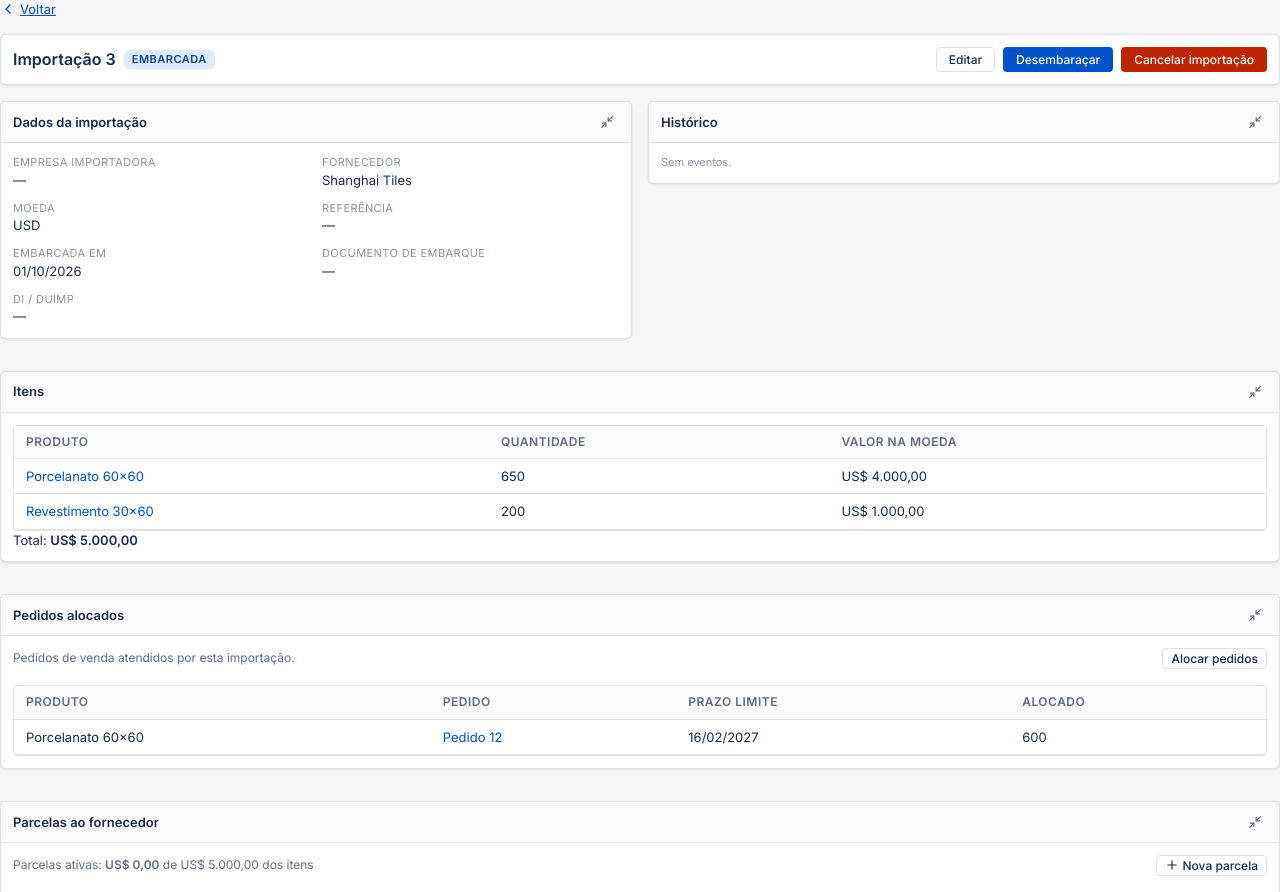
Test: Alocação de pedidos › confere a soma contra a quantidade do item e trata o conflito de versão
The width and height of the screenshot is (1280, 892).
Expected: the heading "Importação 3" is shown, [13,48,116,71]
Expected: the link "Pedido 12" is shown, [443,729,502,745]
Click the button "Alocar pedidos": (1215, 658) [1162,648,1267,669]
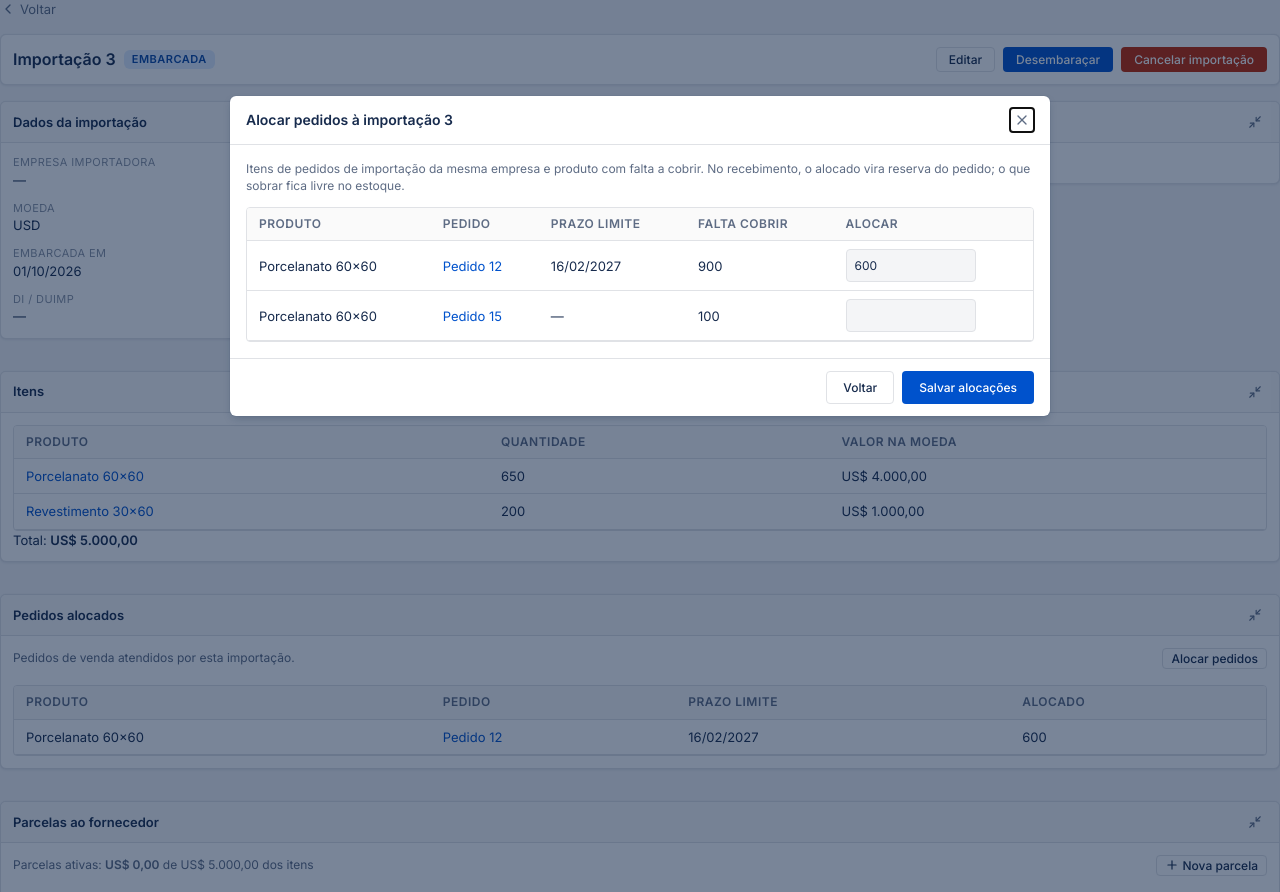
In the number field named "Alocar Porcelanato 60x60 ao pedido 15": (911, 316) [846,299,976,332], type "100"
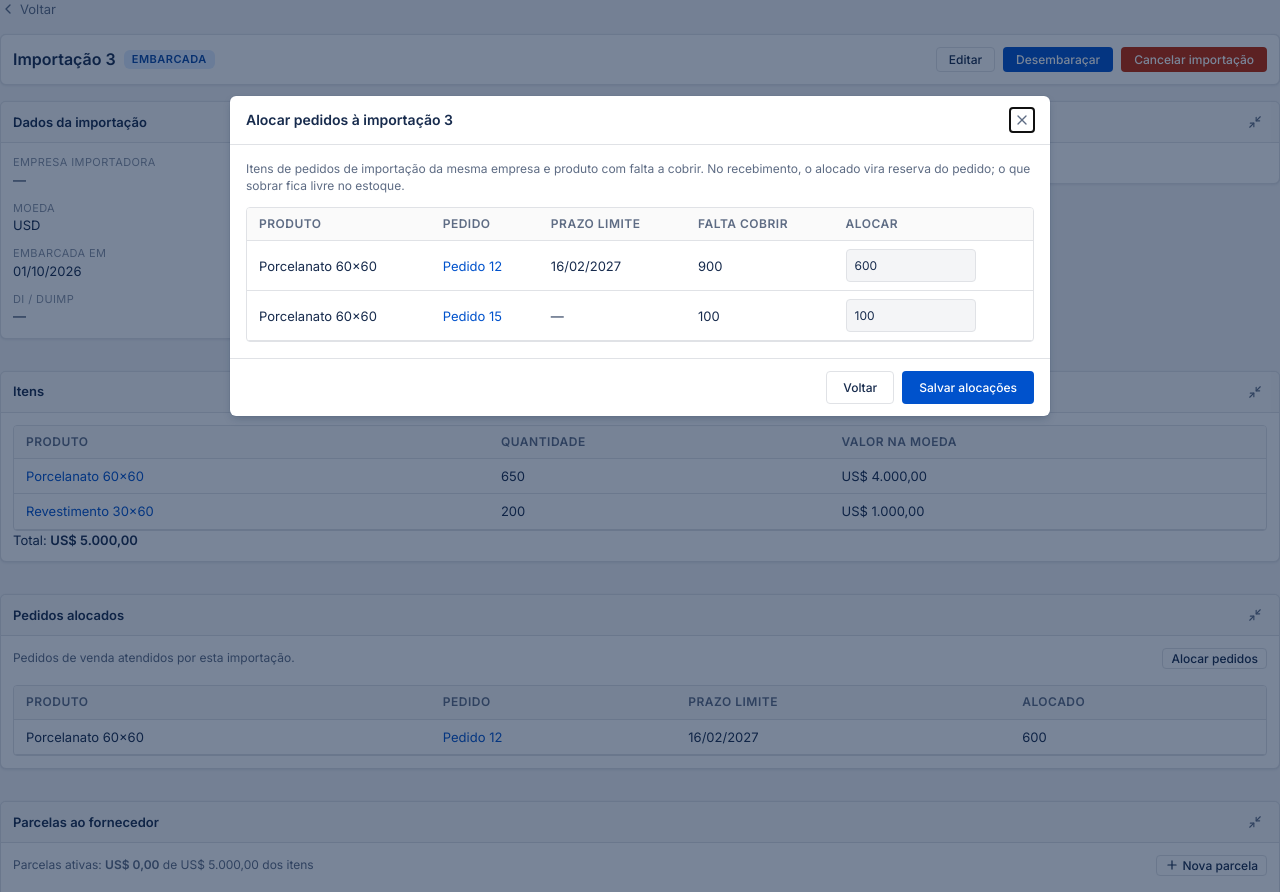
Click the button "Salvar alocações": (968, 388) [902,371,1034,404]
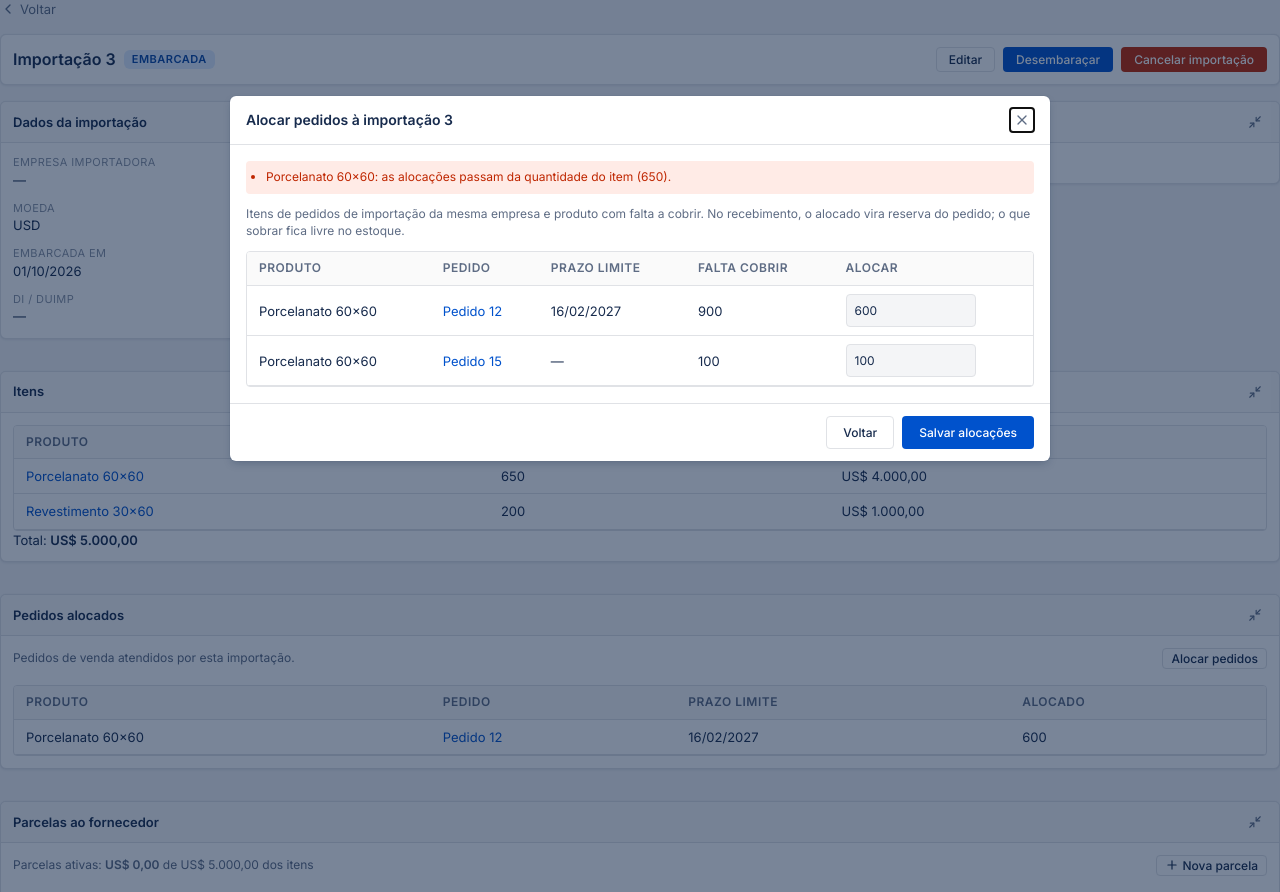
Expected: the list item "Porcelanato 60x60: as alocações passam da quantidade do item (650)." is shown, [266,169,671,184]
Replace the text in the number field named "Alocar Porcelanato 60x60 ao pedido 15" with "50": (911, 361) [846,344,976,377]
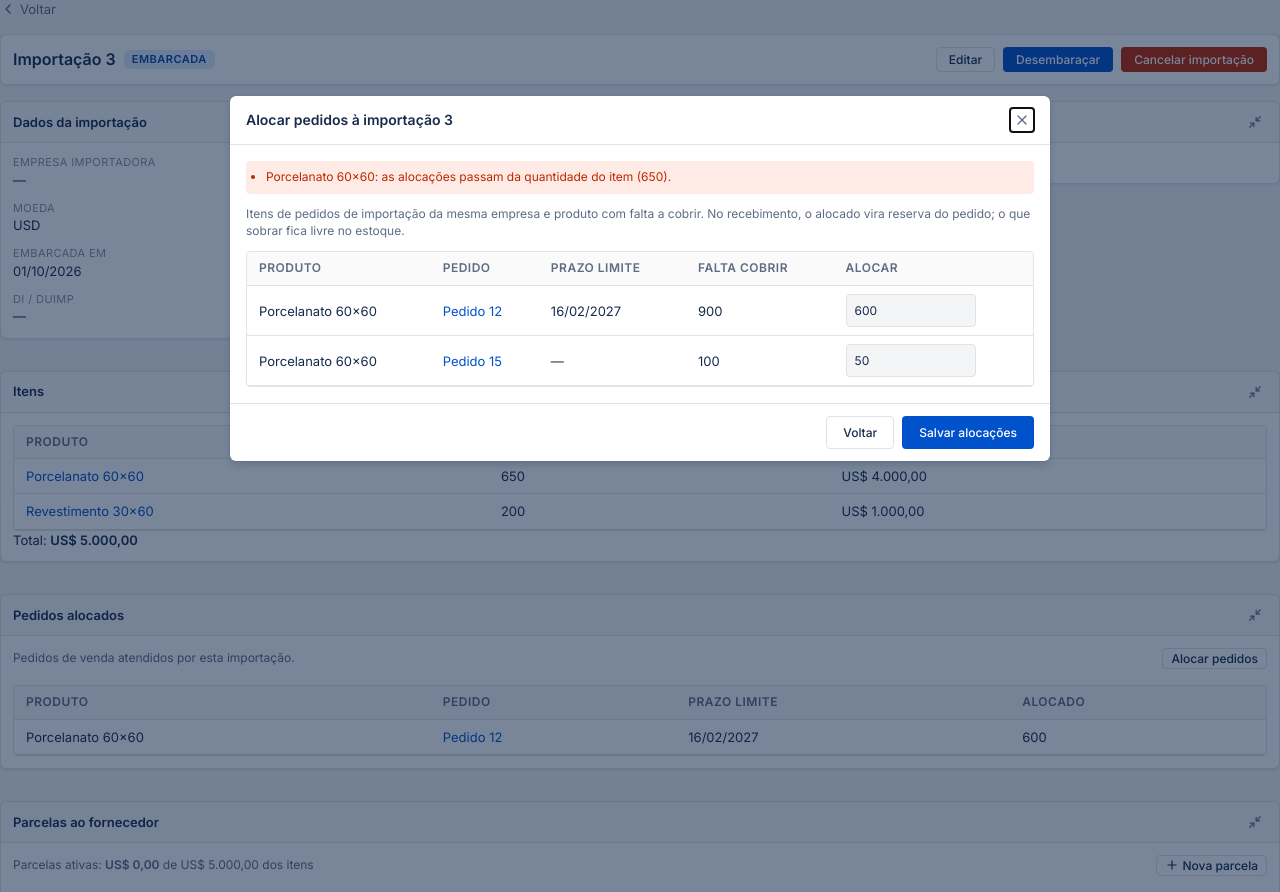
Click the button "Salvar alocações": (968, 433) [902,416,1034,449]
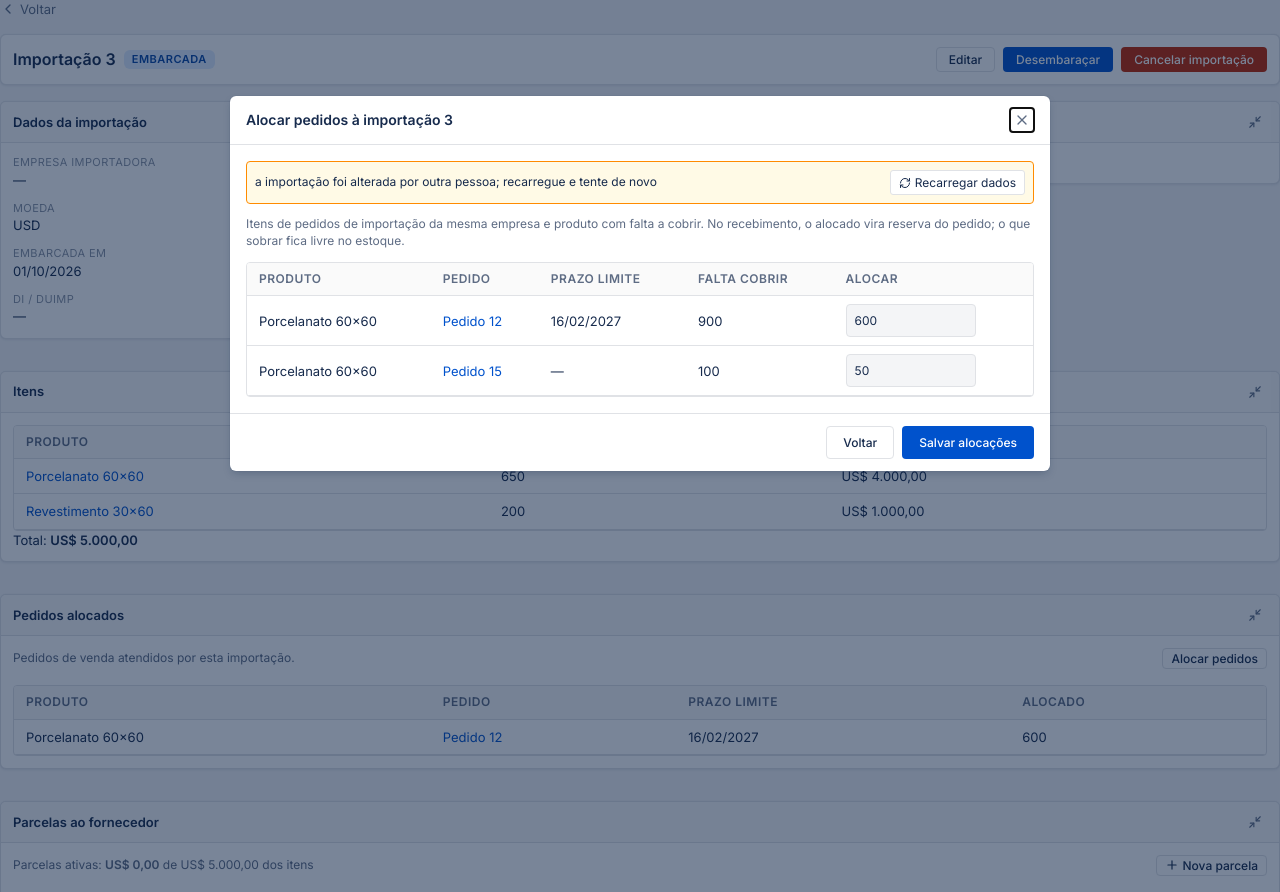
Click the button "Recarregar dados": (957, 182) [890,170,1025,195]
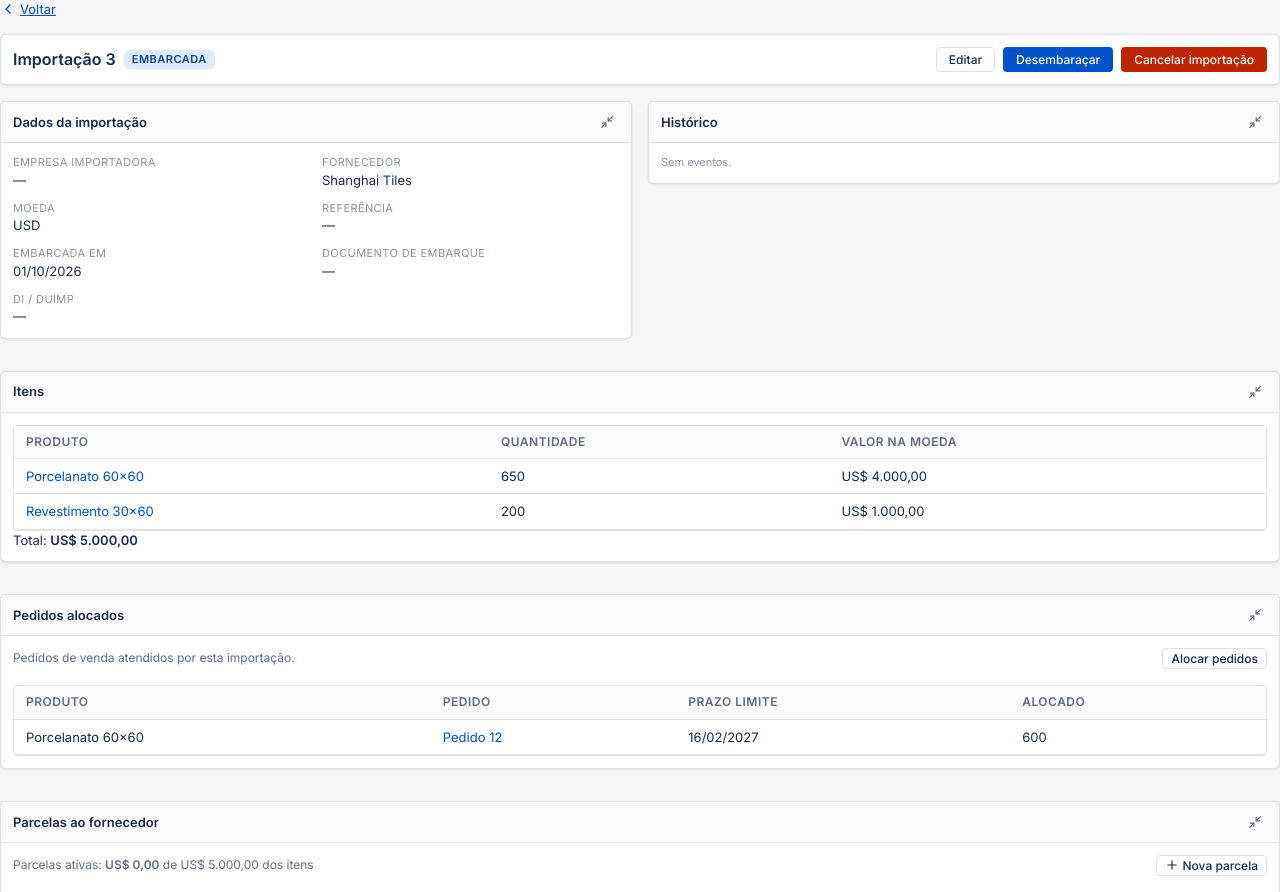
Expected: the dialog is gone
